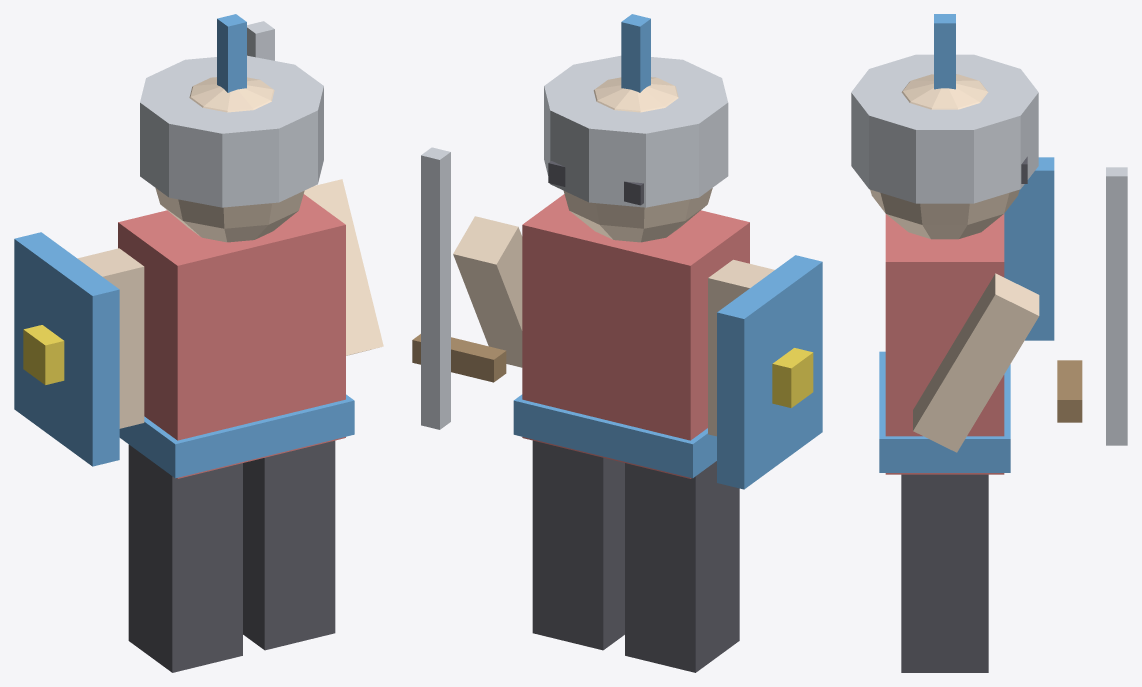
Rendered from warrior.glb.
The picture shows the model from 3 angles, left to right: view 1: azimuth 30°, elevation 25°; view 2: azimuth 150°, elevation 25°; view 3: azimuth 270°, elevation 25°; orthographic projection.
Visible parts, largest first — view 1: warrior; view 2: warrior; view 3: warrior.
Part boxes in pixels (box(x1,y1,x2,y2)): warrior: box(14, 14, 383, 672); warrior: box(412, 14, 822, 672); warrior: box(851, 14, 1127, 672).
Size of the model in its own units: 1.24 by 2.17 by 0.885.
